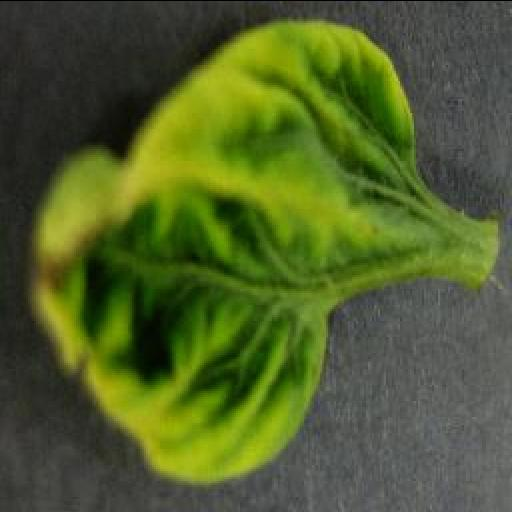disease_tomato: (28, 13, 418, 483)
